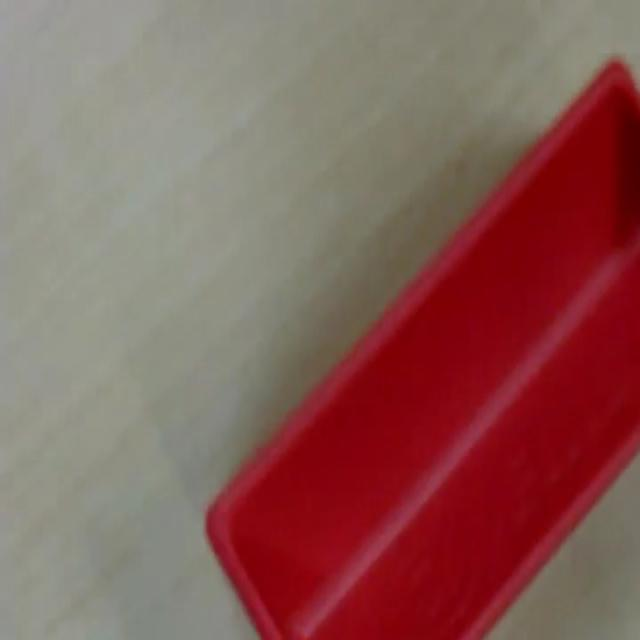red_block: (204, 53, 638, 636)
